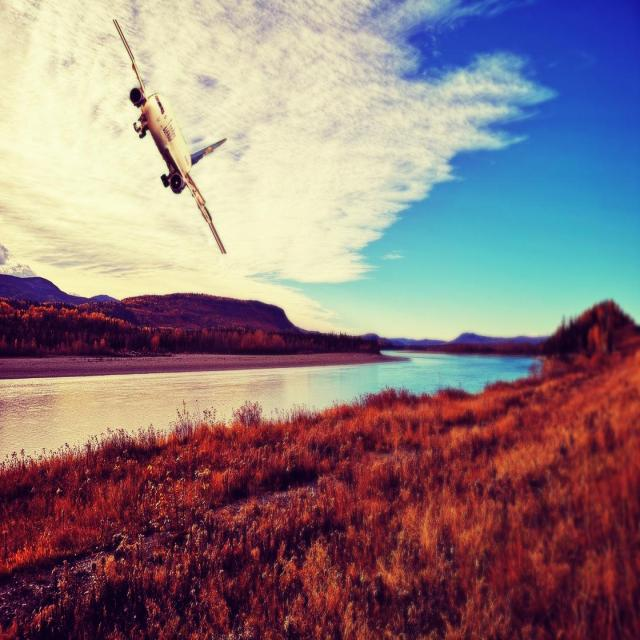airplane: (111, 17, 228, 254)
